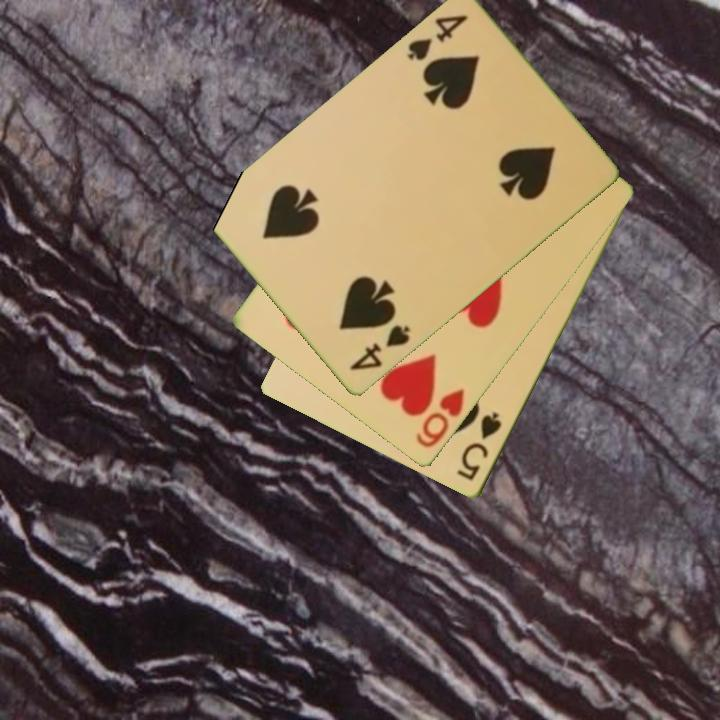4s: (403, 11, 471, 64), (346, 322, 414, 374)
5s: (453, 408, 505, 485)
6h: (412, 386, 468, 452)
